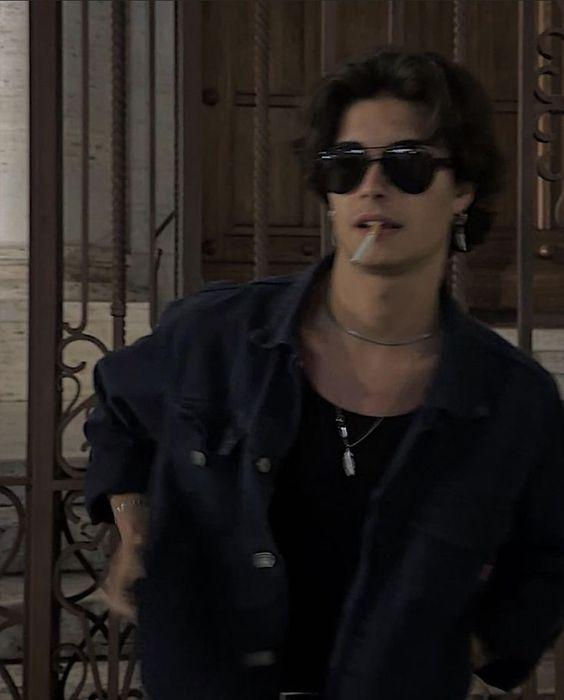cigarette: (350, 223, 385, 265)
